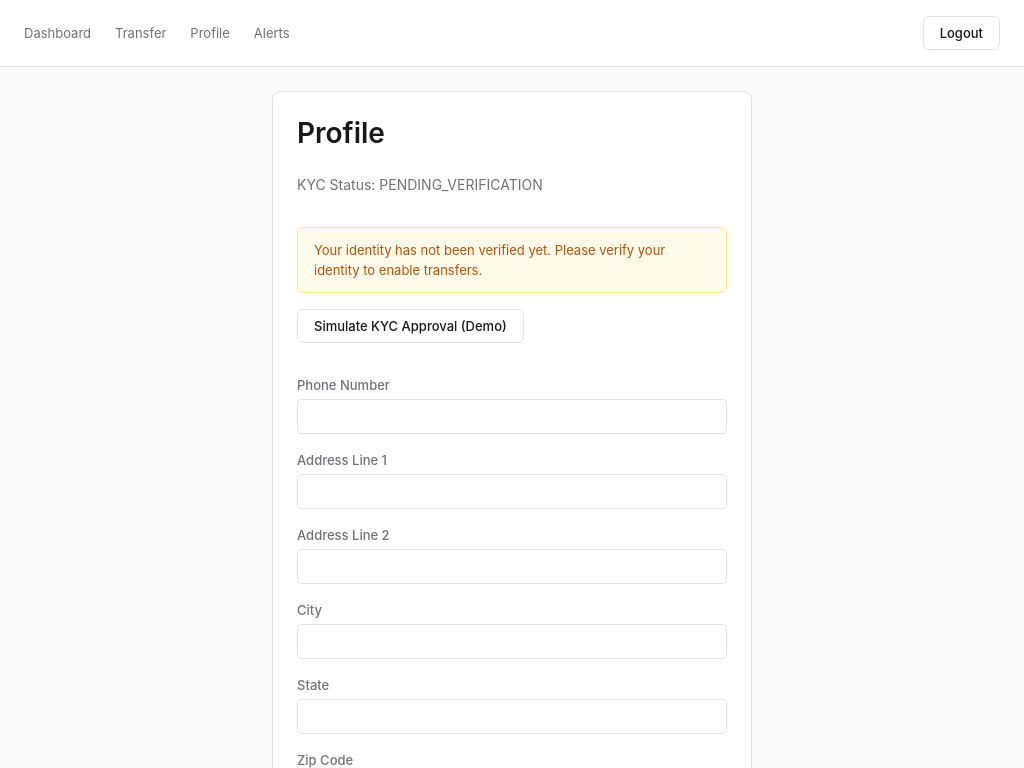
it: ProfileComponent › submits valid contact info and shows a save confirmation
The width and height of the screenshot is (1024, 768).
In the field below "Phone Number": point(512, 416) [297,399,727,434], type "+15551234567"
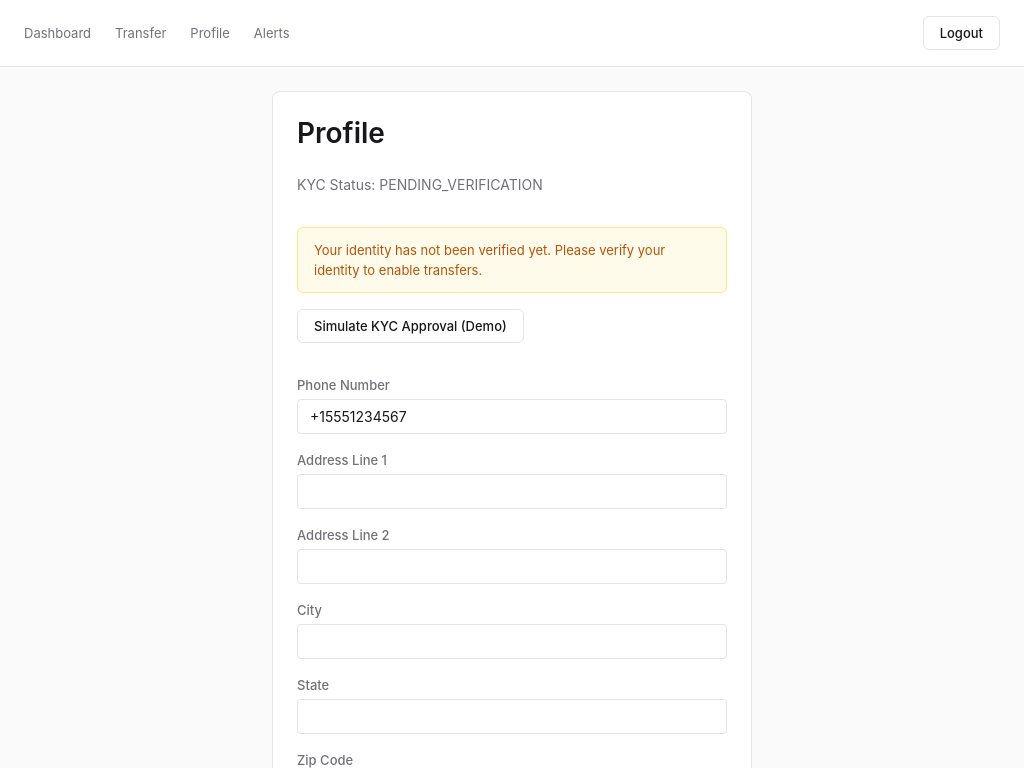
In the field below "Address Line 1": point(512, 492) [297,474,727,509], type "123 Main St"
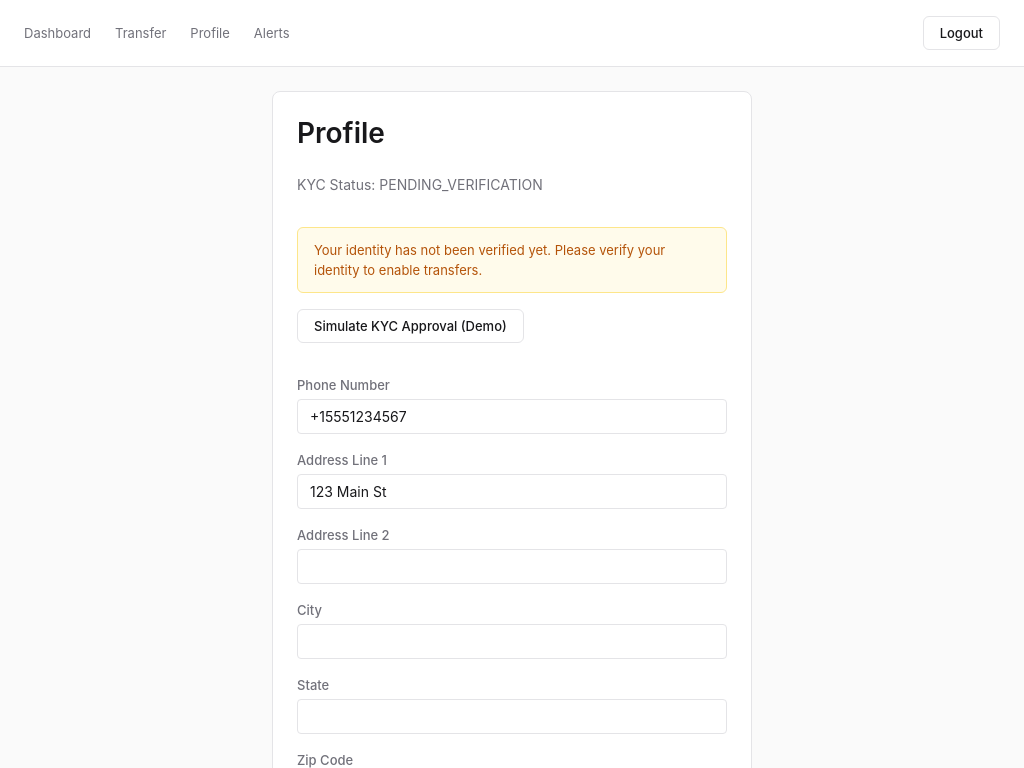
In the field below "City": point(512, 642) [297,624,727,659], type "Springfield"
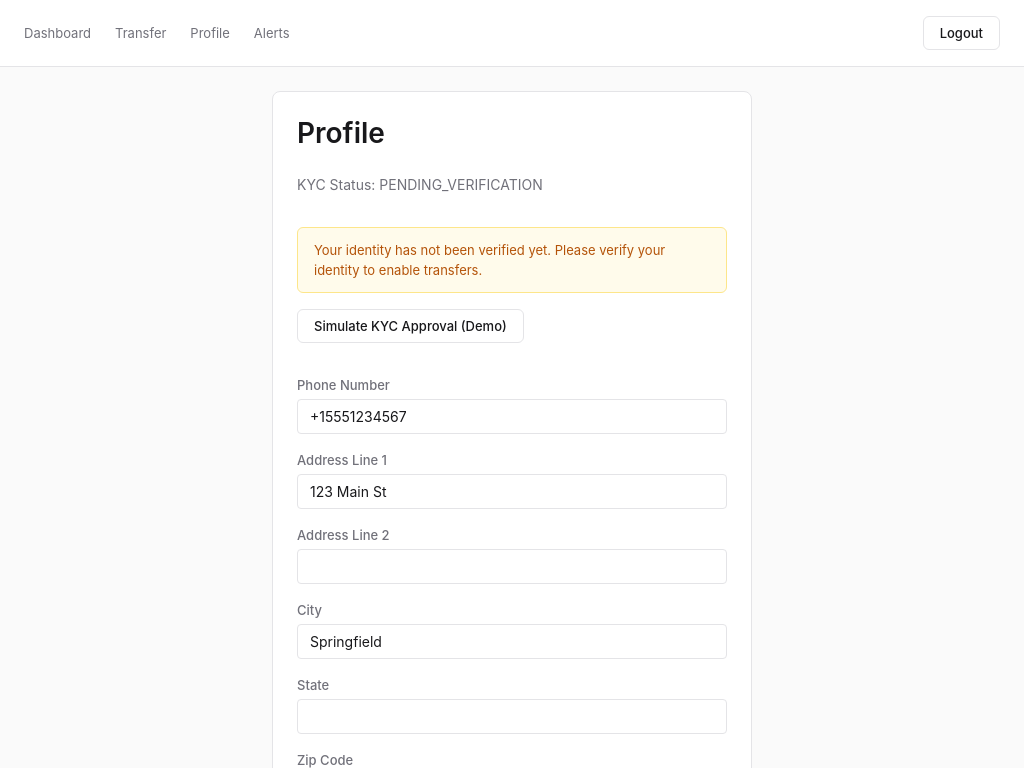
In the field below "State": point(512, 716) [297,699,727,734], type "IL"
(page scrolled)
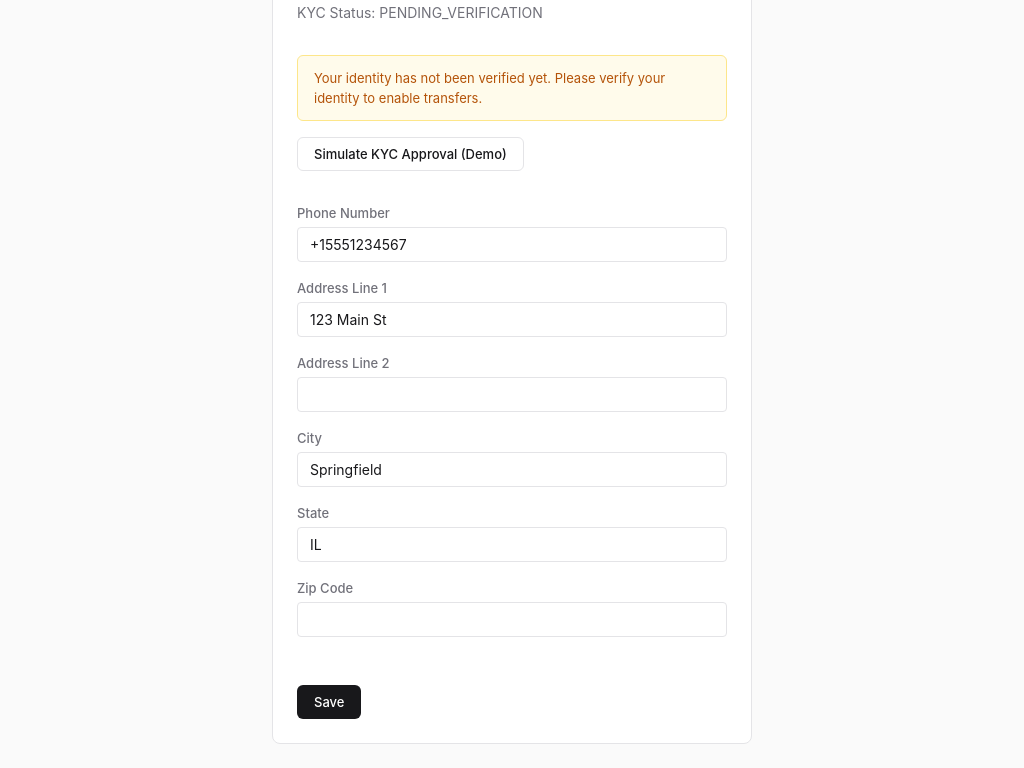
In the field below "Zip Code": point(512, 620) [297,602,727,637], type "62704"
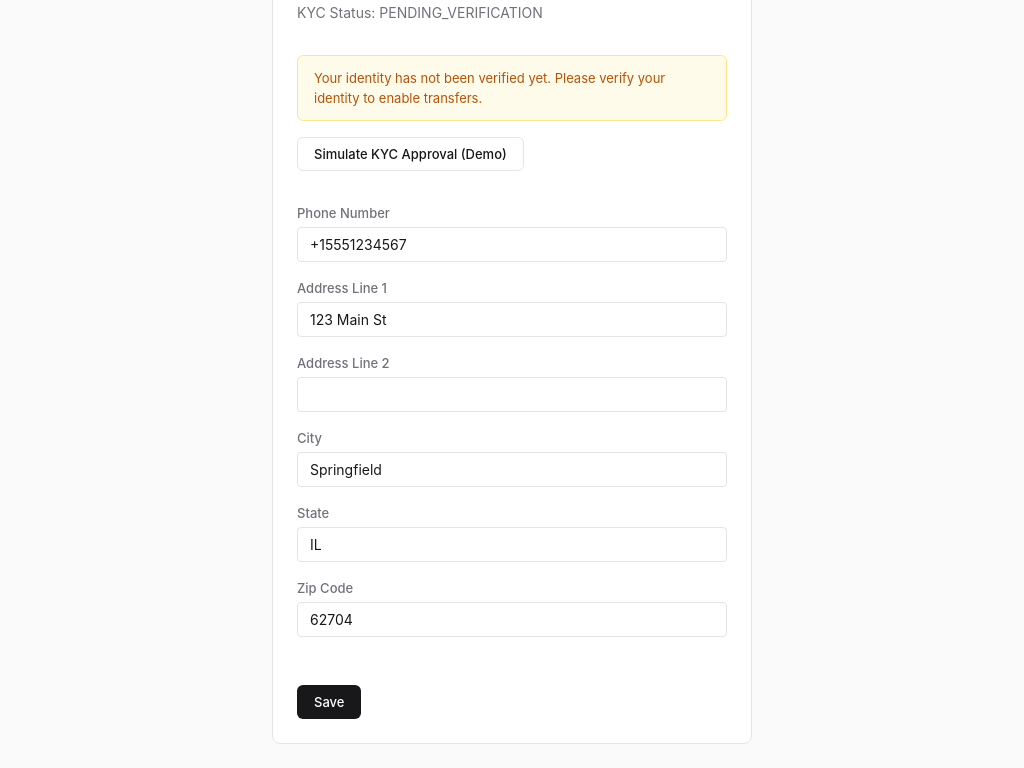
Click the button "Save": point(329, 702) [297,685,361,719]
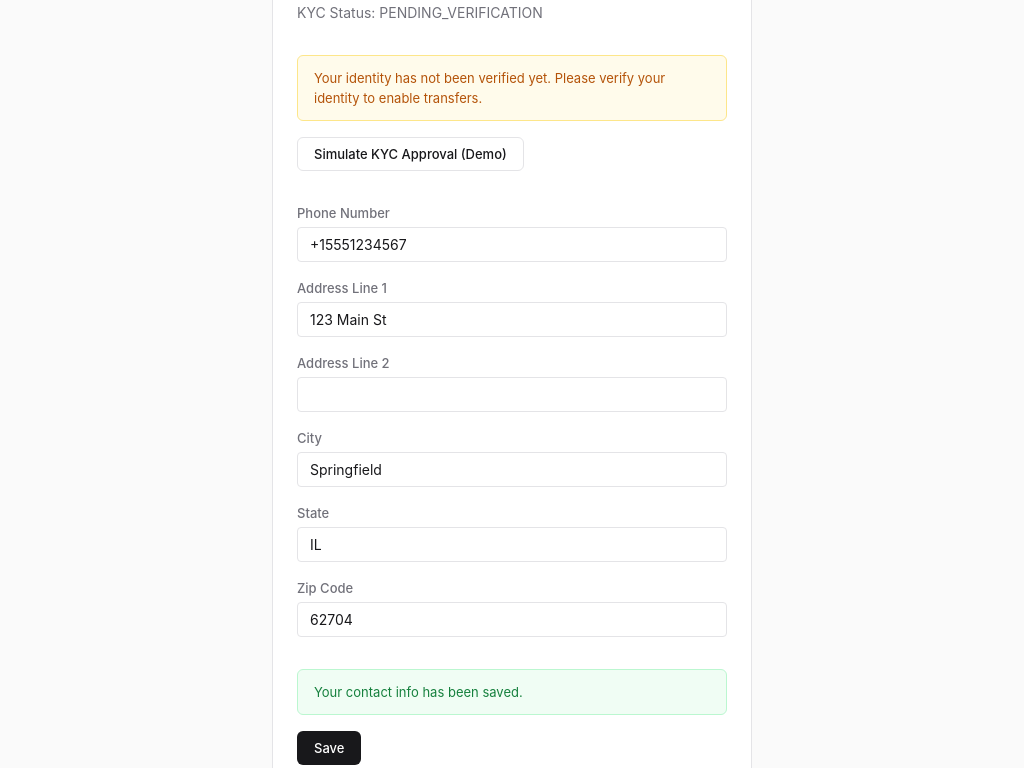
Expected: the text "saved" is shown, [314,684,523,700]
